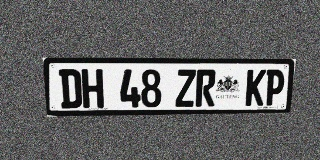4: (120, 69, 141, 108)
8: (141, 69, 162, 107)
D: (59, 69, 82, 108)
H: (81, 69, 104, 108)
K: (245, 69, 266, 106)
P: (264, 69, 285, 106)
R: (195, 69, 216, 107)
Z: (175, 69, 196, 107)
